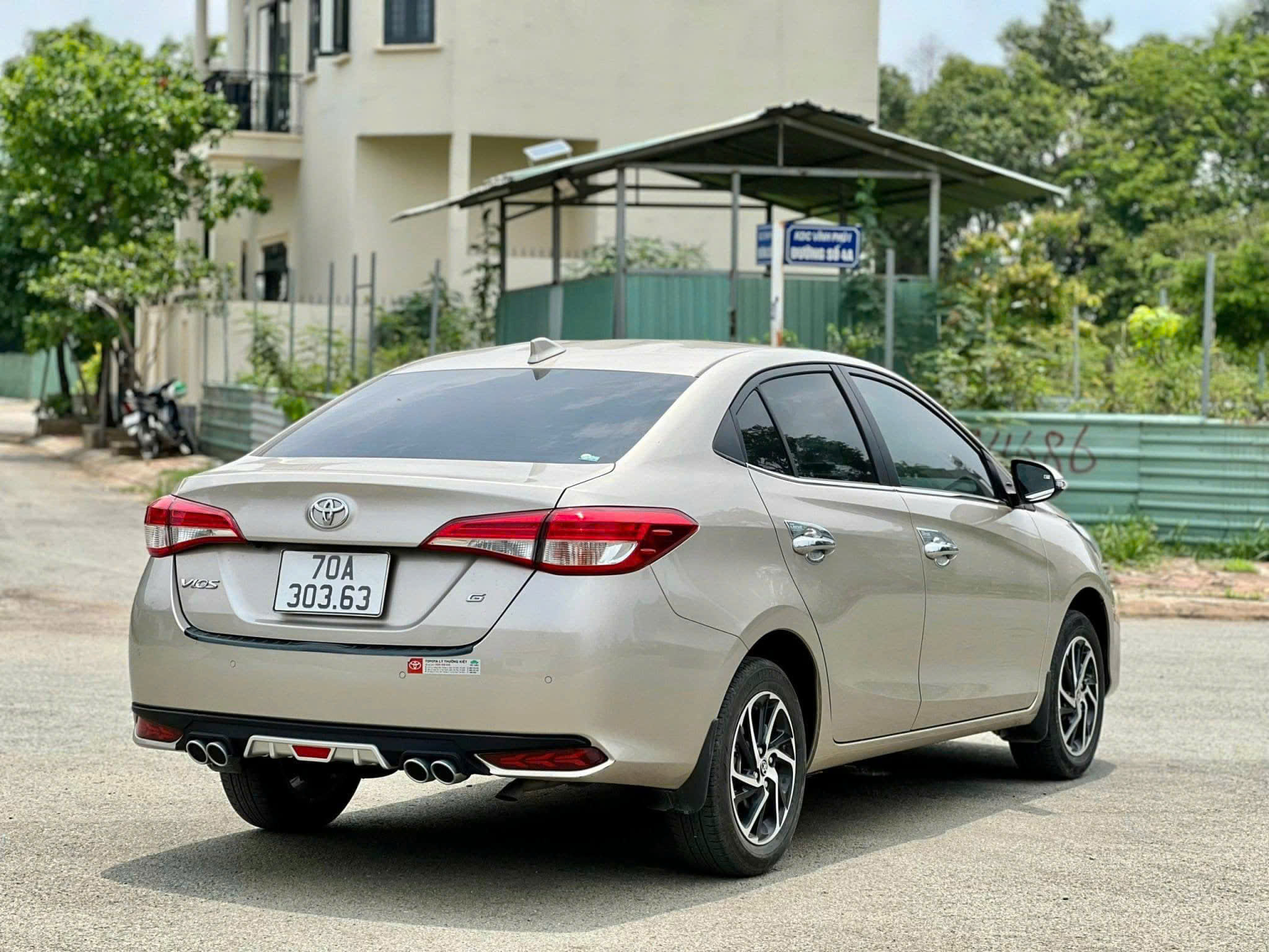Bien-so: (271, 546, 393, 624)
